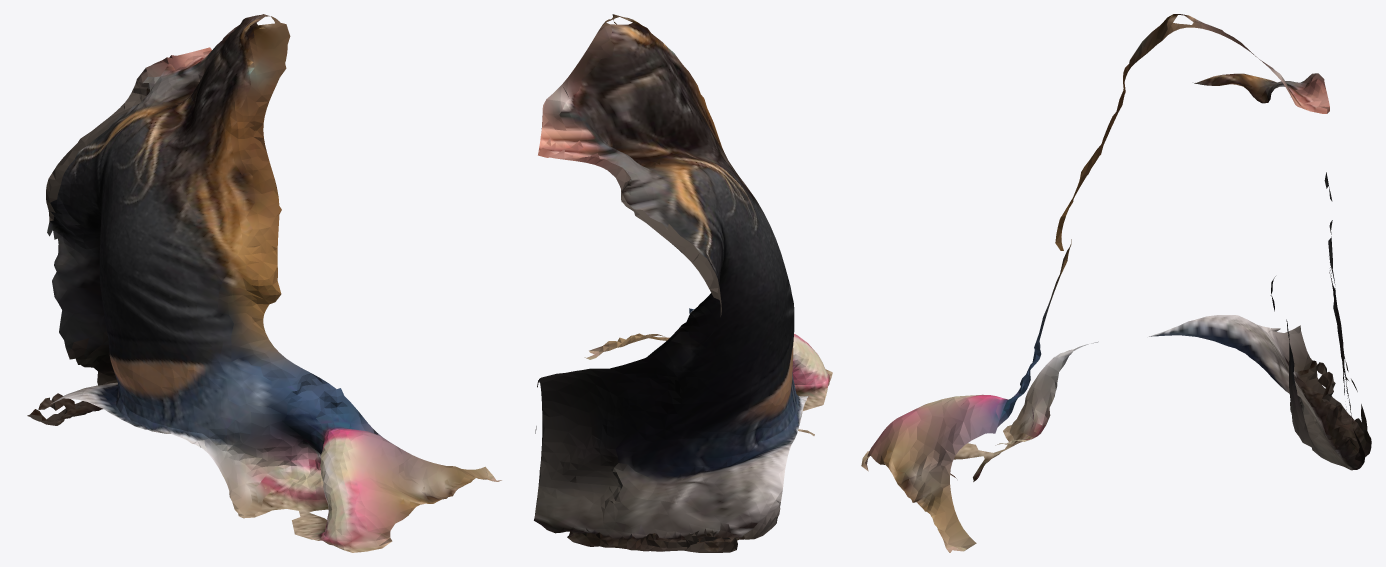
3 views of the same model, side by side, from view 1: azimuth 30°, elevation 25°; view 2: azimuth 150°, elevation 25°; view 3: azimuth 270°, elevation 25° (orthographic). The views are drawn at different scales.
Size of the model in its own units: 0.7078 by 0.844 by 0.8465.
Materials: 1 (1 with a texture image).
